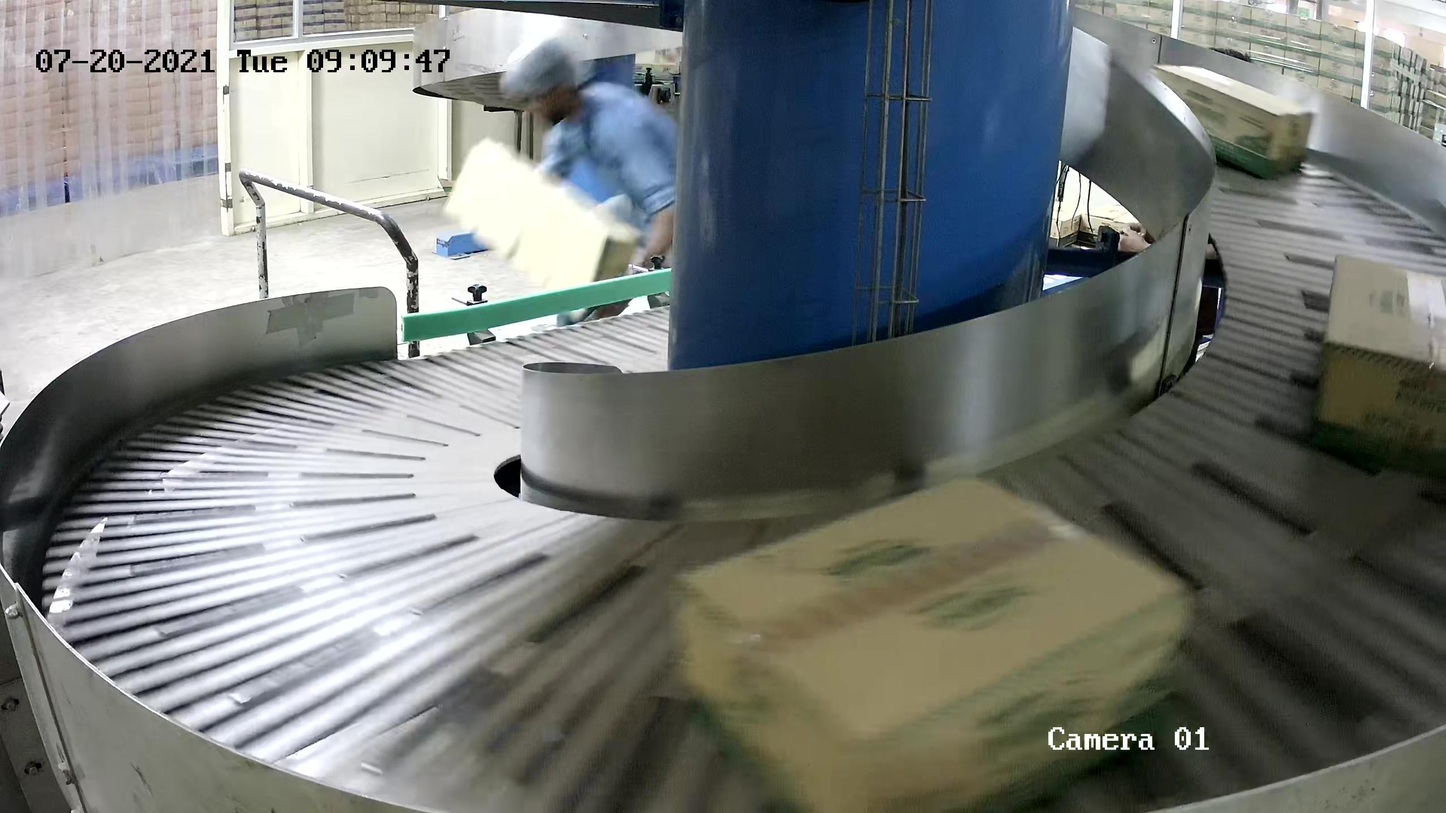Box: (666, 469, 1196, 813), (1310, 252, 1446, 478), (1143, 63, 1316, 182)
